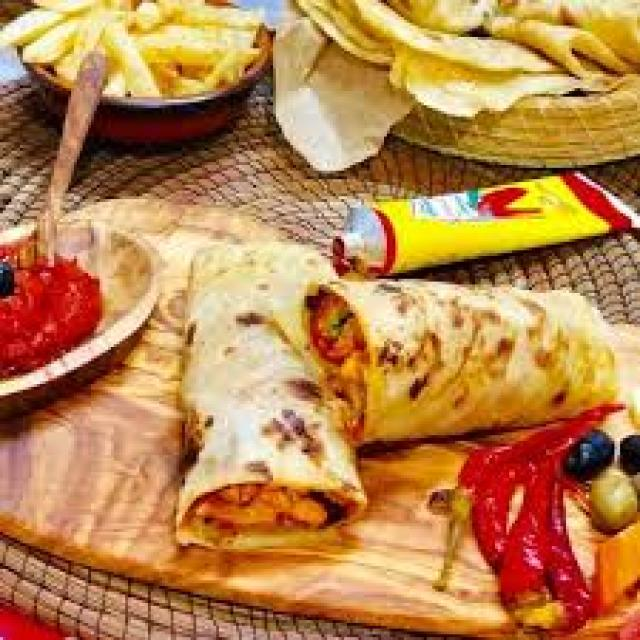Harissa: (334, 171, 640, 276), (0, 229, 150, 384)
